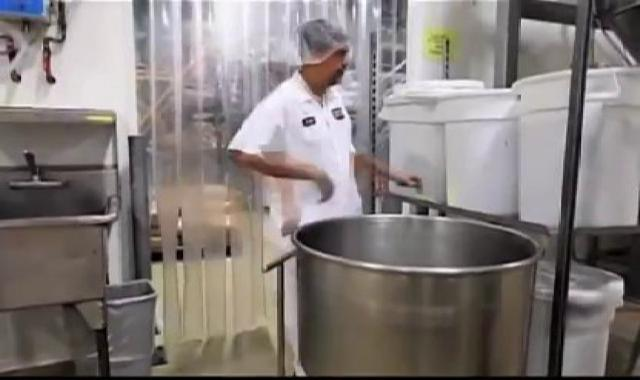hairnet: (296, 18, 359, 70)
